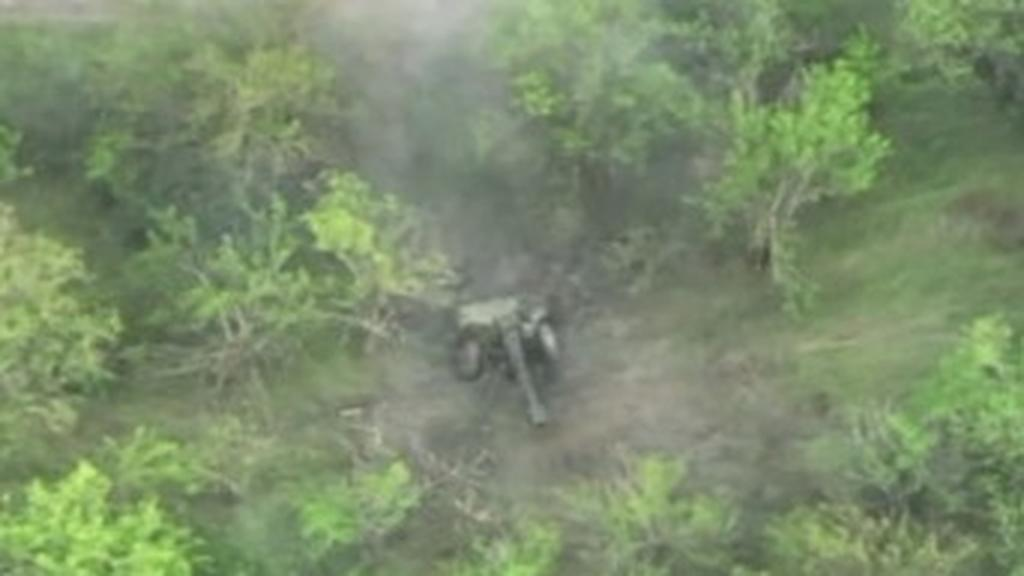ART: (454, 284, 572, 428)
